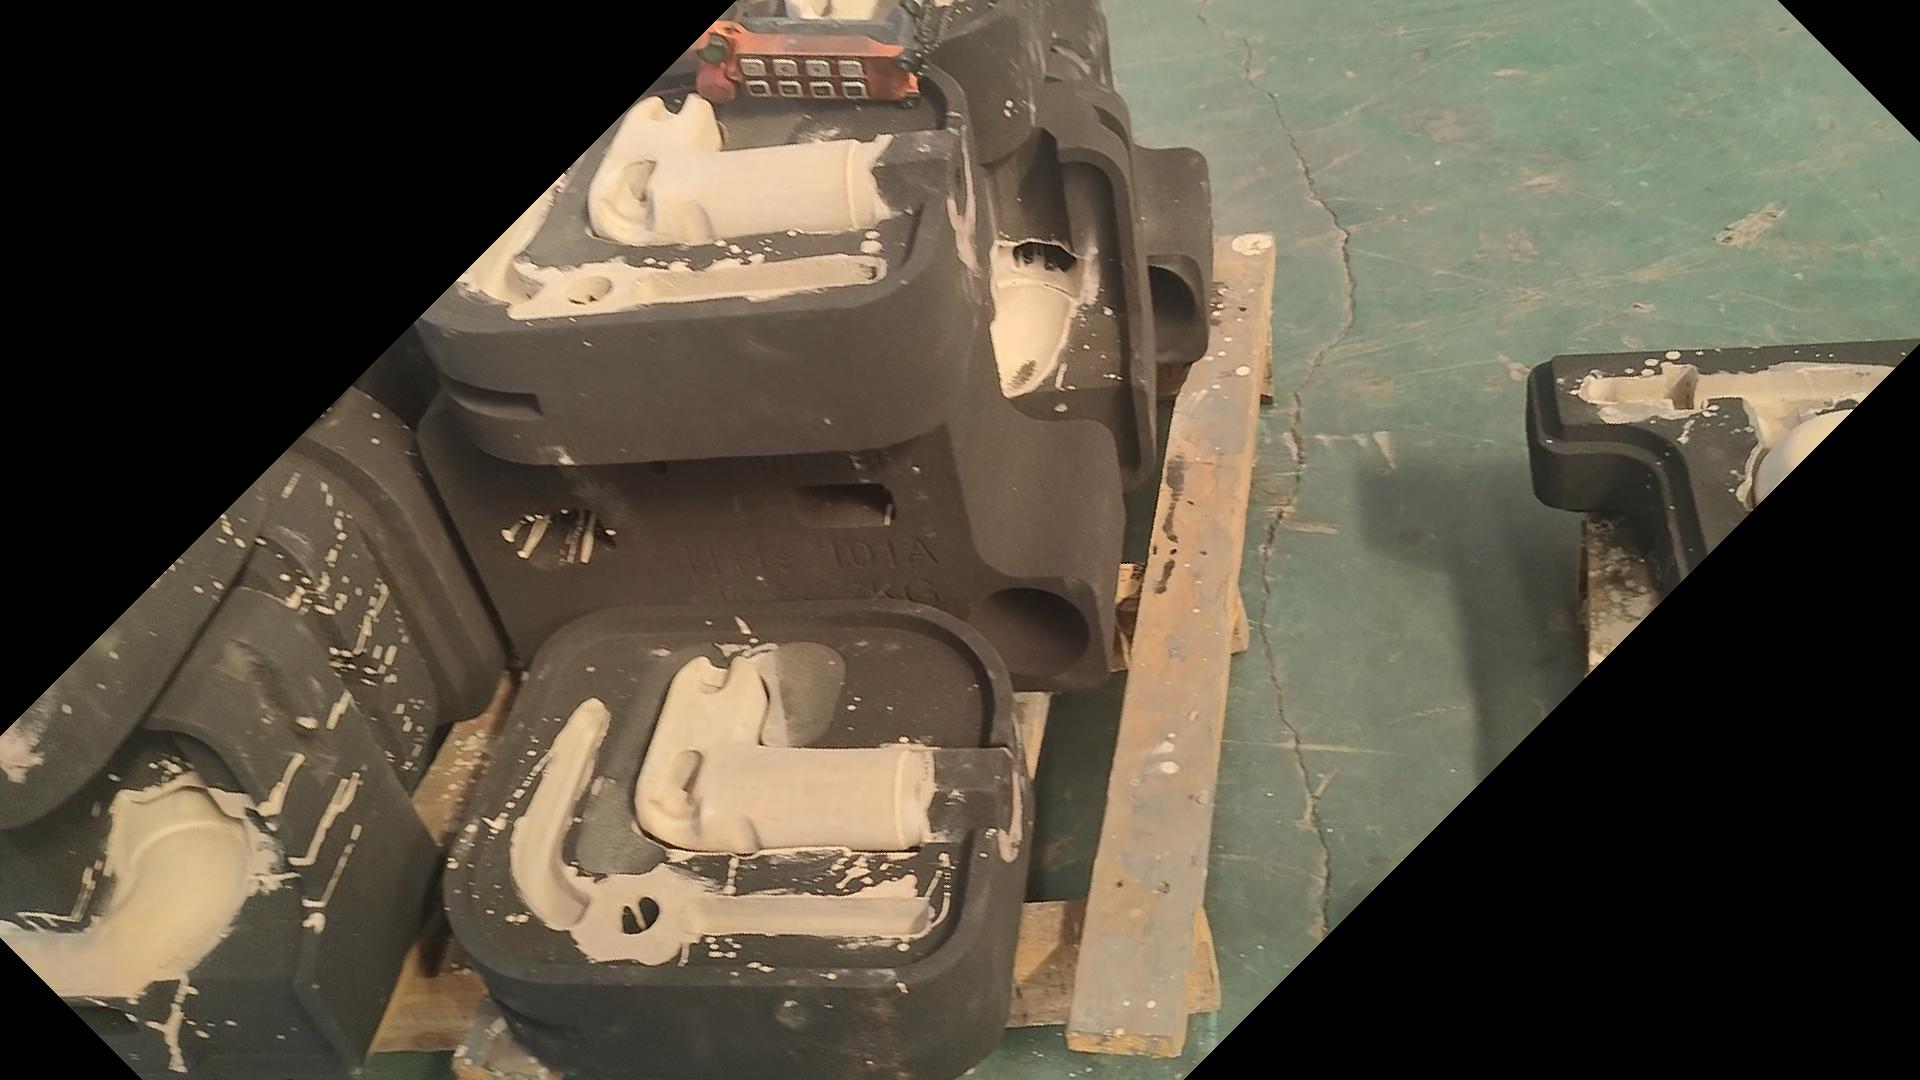pouring hole: (971, 585, 1092, 678), (1104, 261, 1201, 357)
